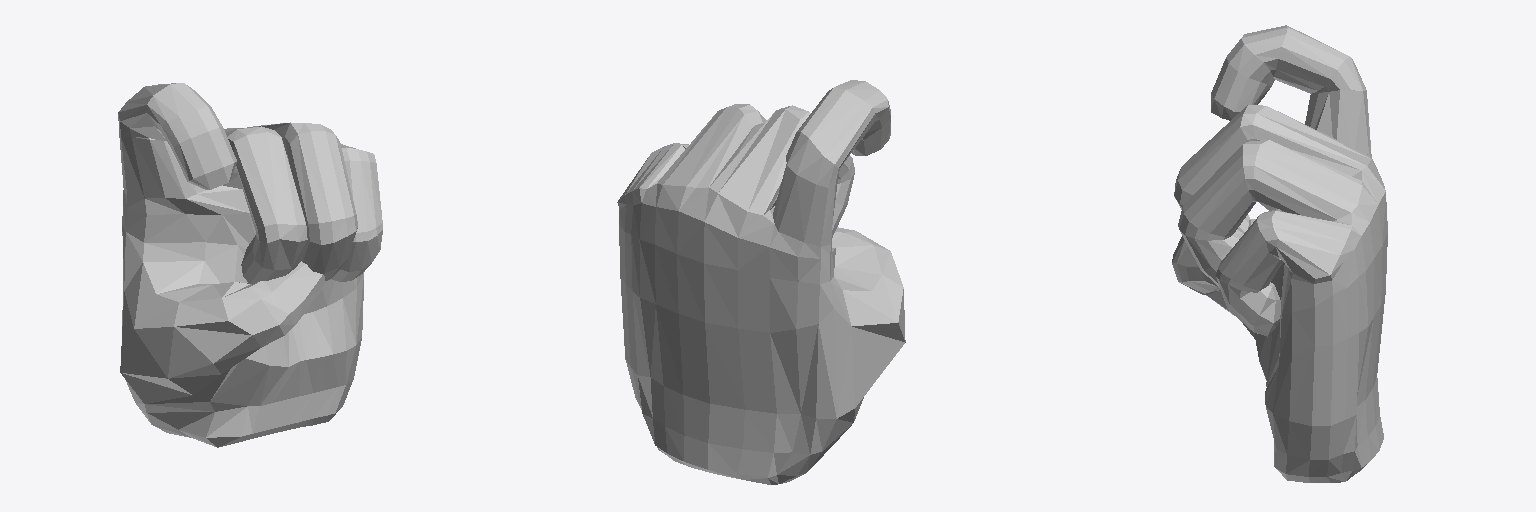
Rendered from flexionado1.obj.
The picture shows the model from 3 angles: view 1: azimuth 30°, elevation 25°; view 2: azimuth 150°, elevation 25°; view 3: azimuth 270°, elevation 25°; orthographic projection.
Parts seen in each view (by area): view 1: Box01; view 2: Box01; view 3: Box01.
Part boxes in pixels (left/top/right/bottom): Box01: left=118, top=83, right=382, bottom=447; Box01: left=617, top=80, right=905, bottom=484; Box01: left=1172, top=25, right=1387, bottom=482.
Size of the model in its own units: 132 by 189 by 97.83.